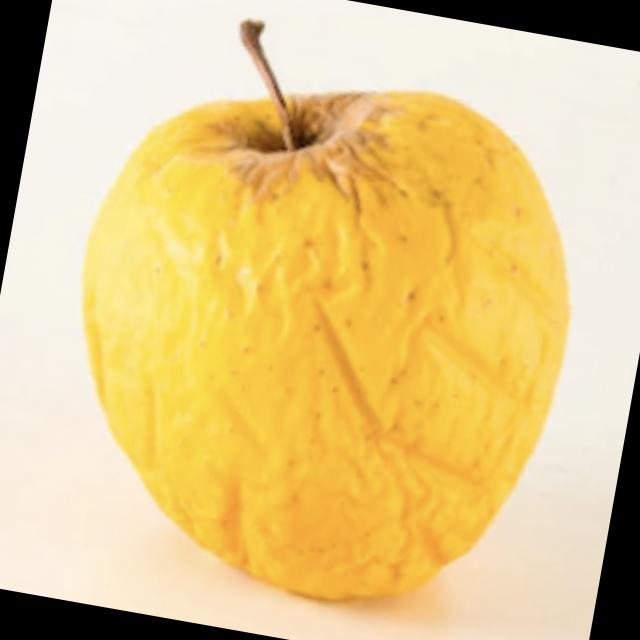rotten_apple: (31, 14, 615, 636)
